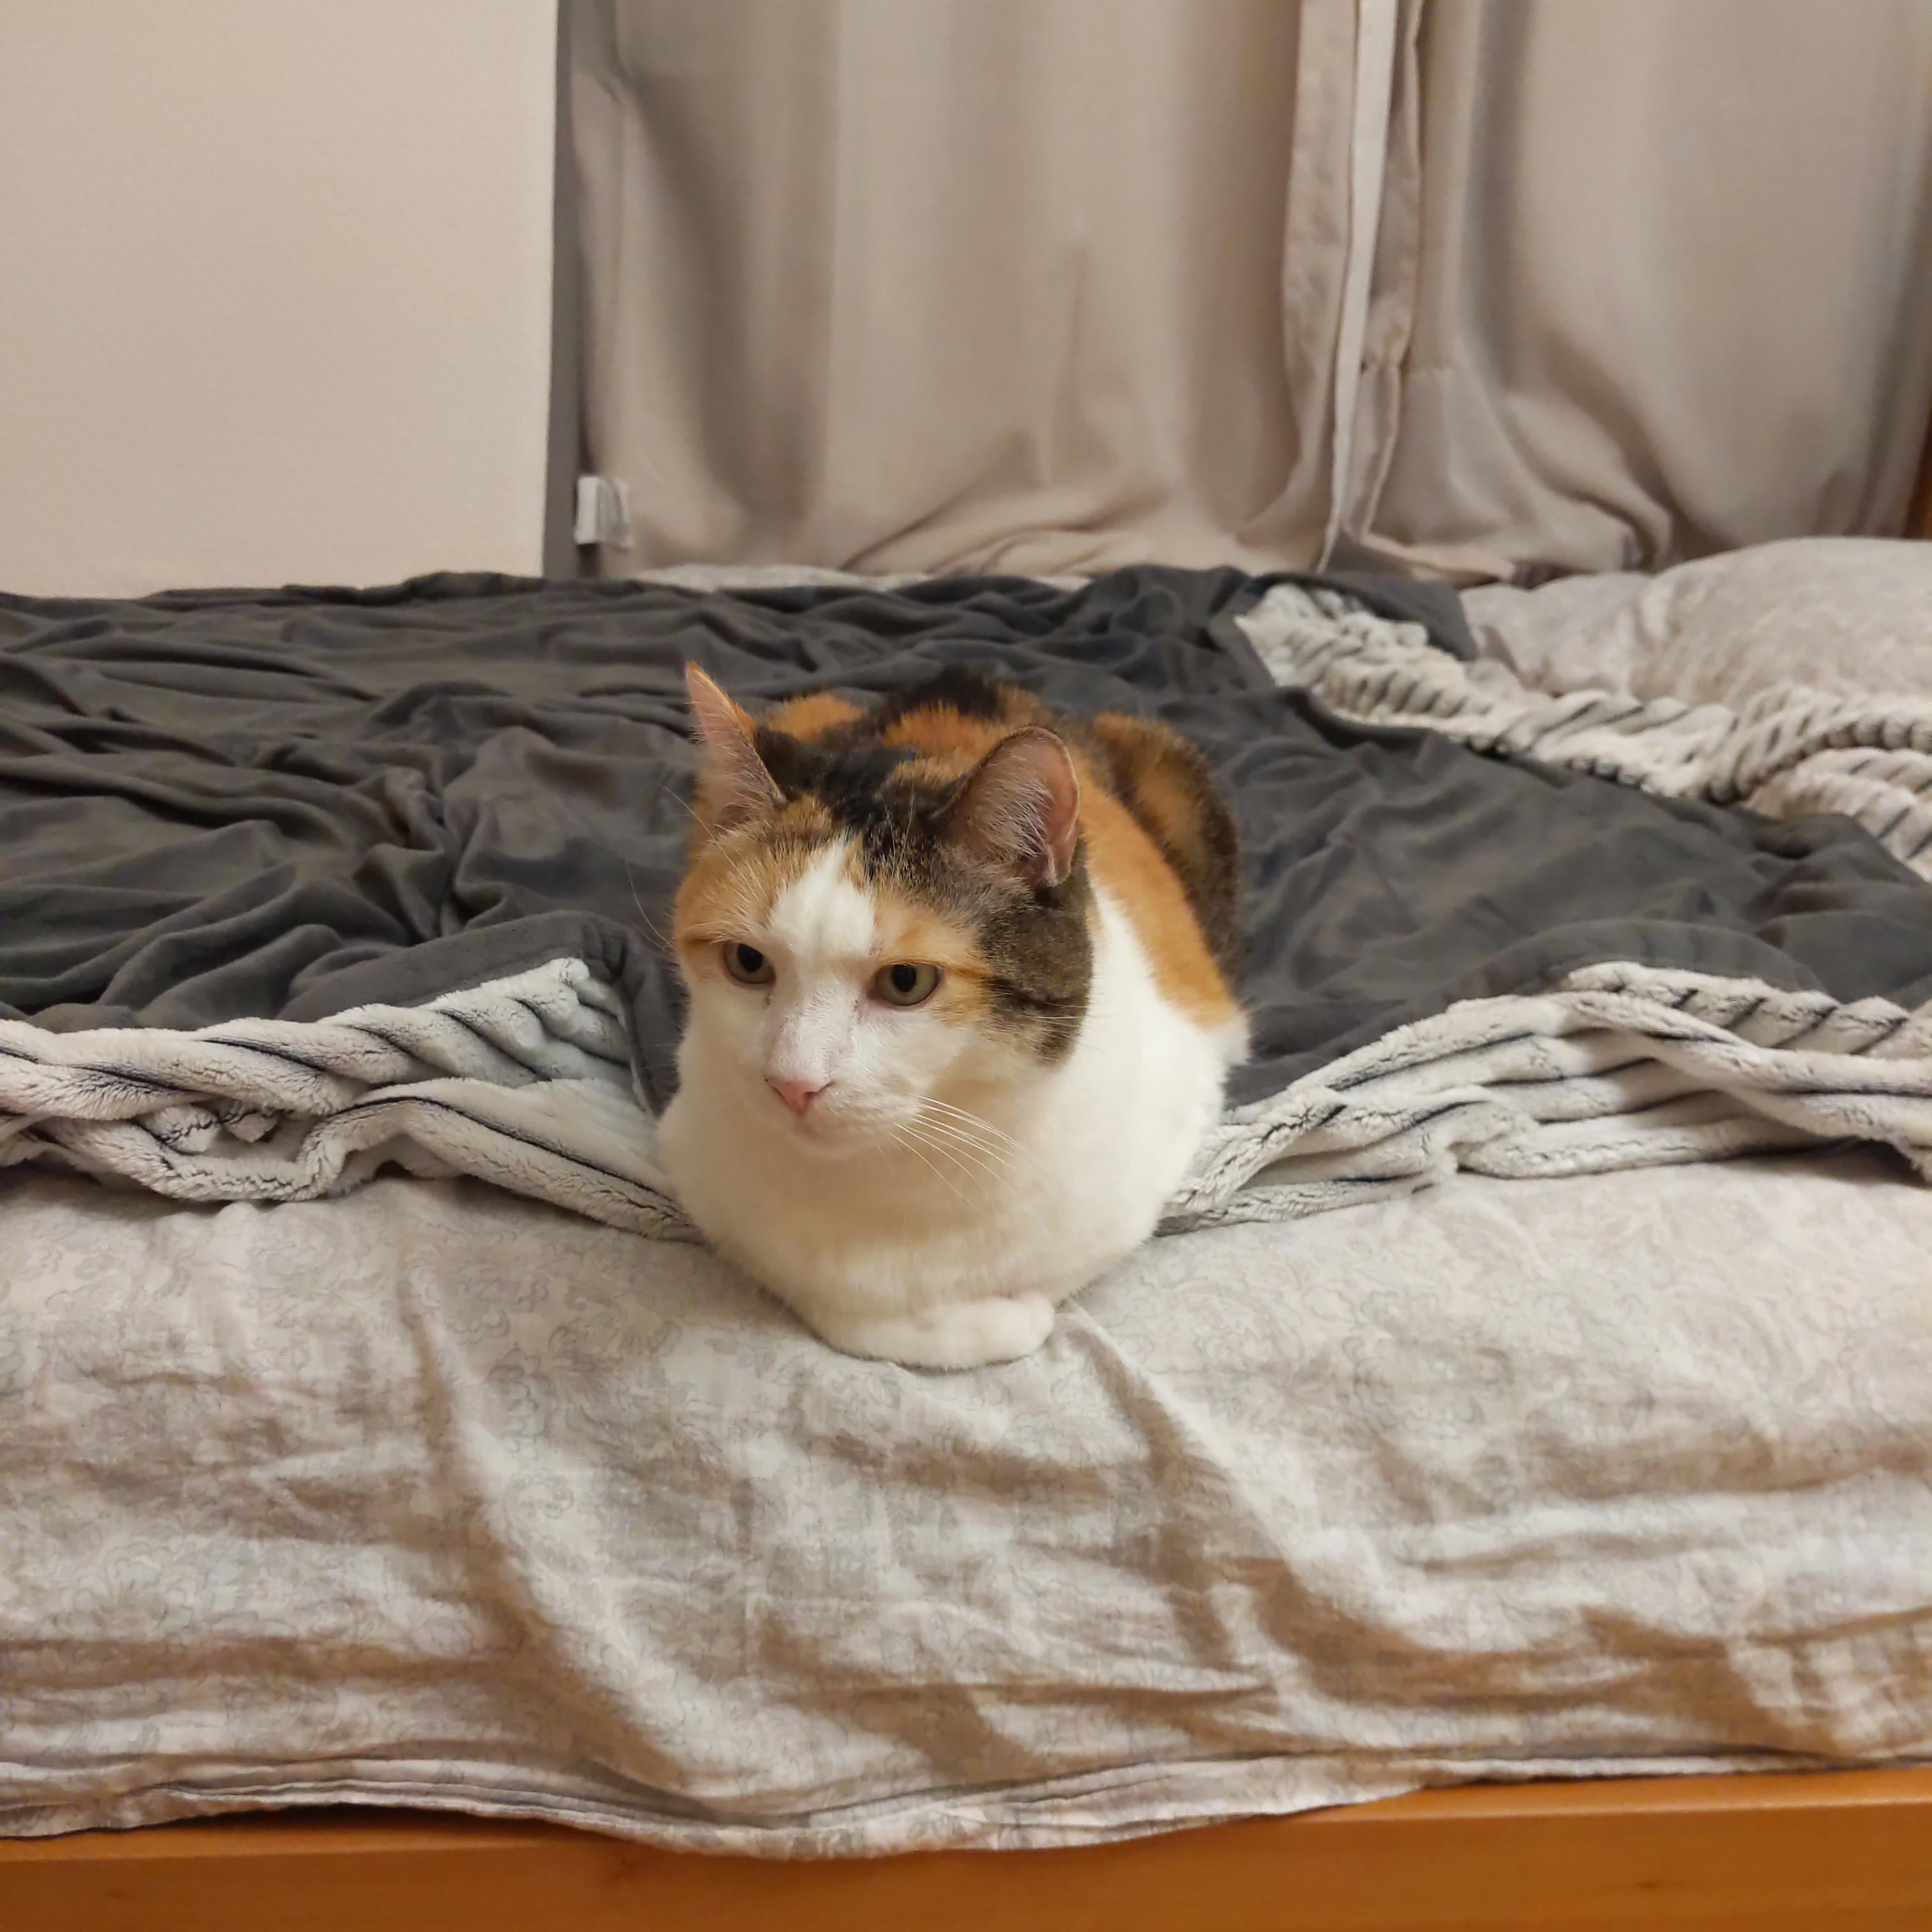Calico: (651, 656, 1244, 1371)
